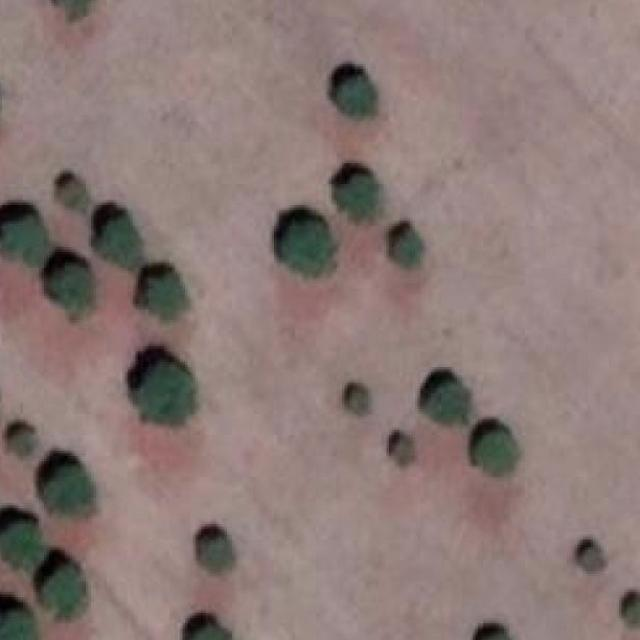Tree: (141, 362, 194, 422), (282, 221, 335, 273), (42, 566, 87, 621), (44, 469, 94, 516), (0, 218, 50, 264), (102, 216, 144, 266), (52, 262, 94, 310), (0, 524, 44, 569), (476, 428, 521, 472), (336, 177, 378, 224), (424, 383, 471, 422), (149, 276, 188, 318), (337, 76, 376, 116), (196, 537, 230, 569), (394, 229, 420, 266), (0, 613, 33, 640), (63, 179, 89, 208), (185, 625, 232, 640), (58, 0, 94, 17), (478, 625, 512, 640), (10, 433, 34, 454), (394, 438, 413, 462), (349, 391, 368, 415), (582, 548, 602, 569), (627, 600, 640, 624)
